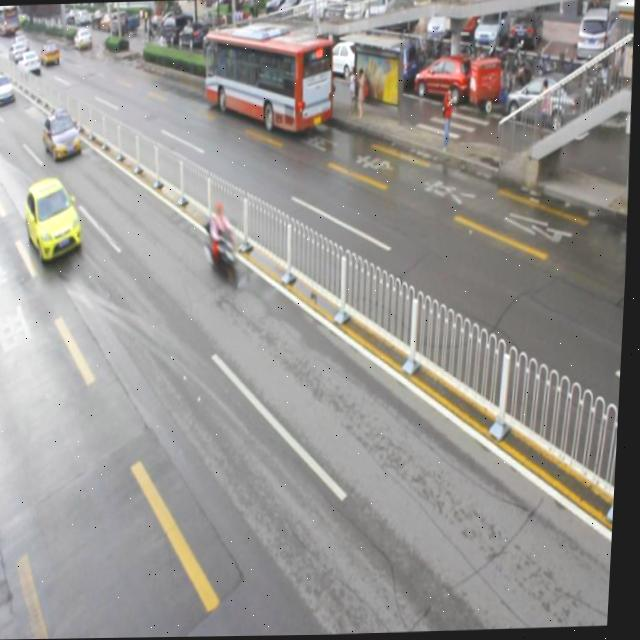car: (25, 176, 87, 264), (43, 108, 86, 163)
van: (202, 25, 336, 135)
